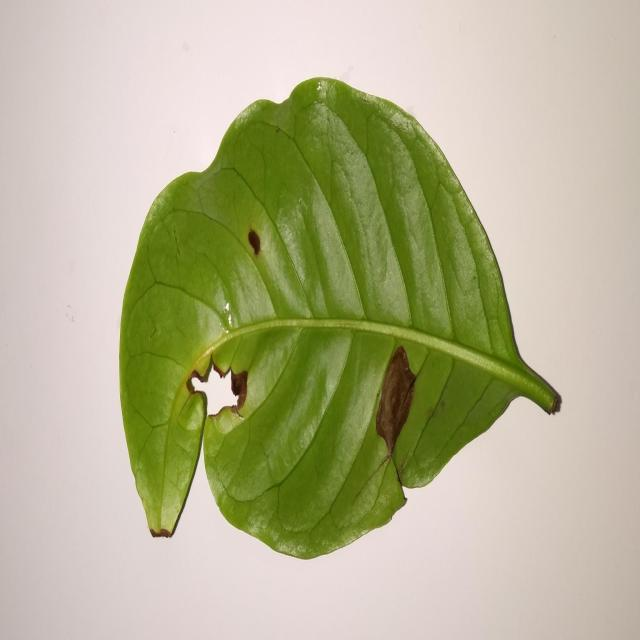Enfermedad-Antracnosis: (117, 78, 563, 564)
